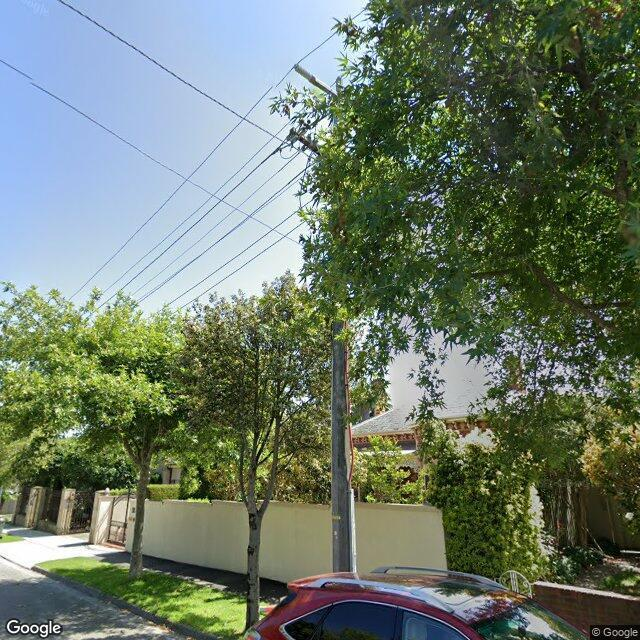HV-transmission: (294, 64, 342, 87)
crossarm: (290, 128, 320, 156), (312, 76, 336, 96)
timber-pole: (331, 319, 353, 573)
